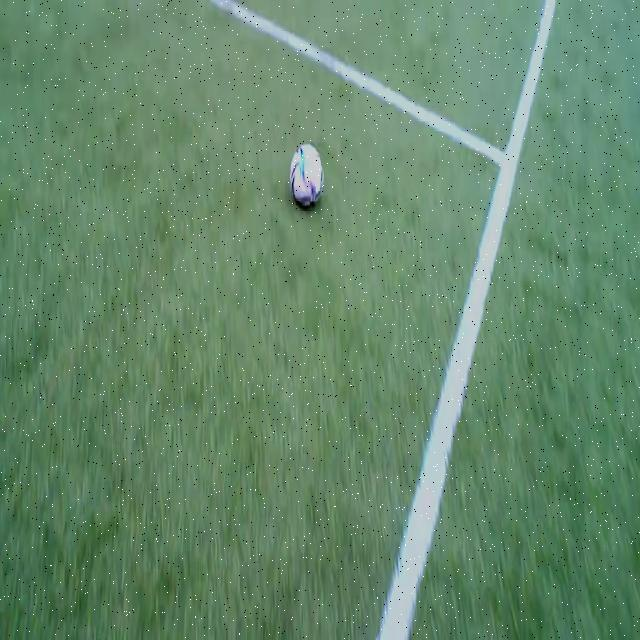ball: (290, 143, 324, 207)
